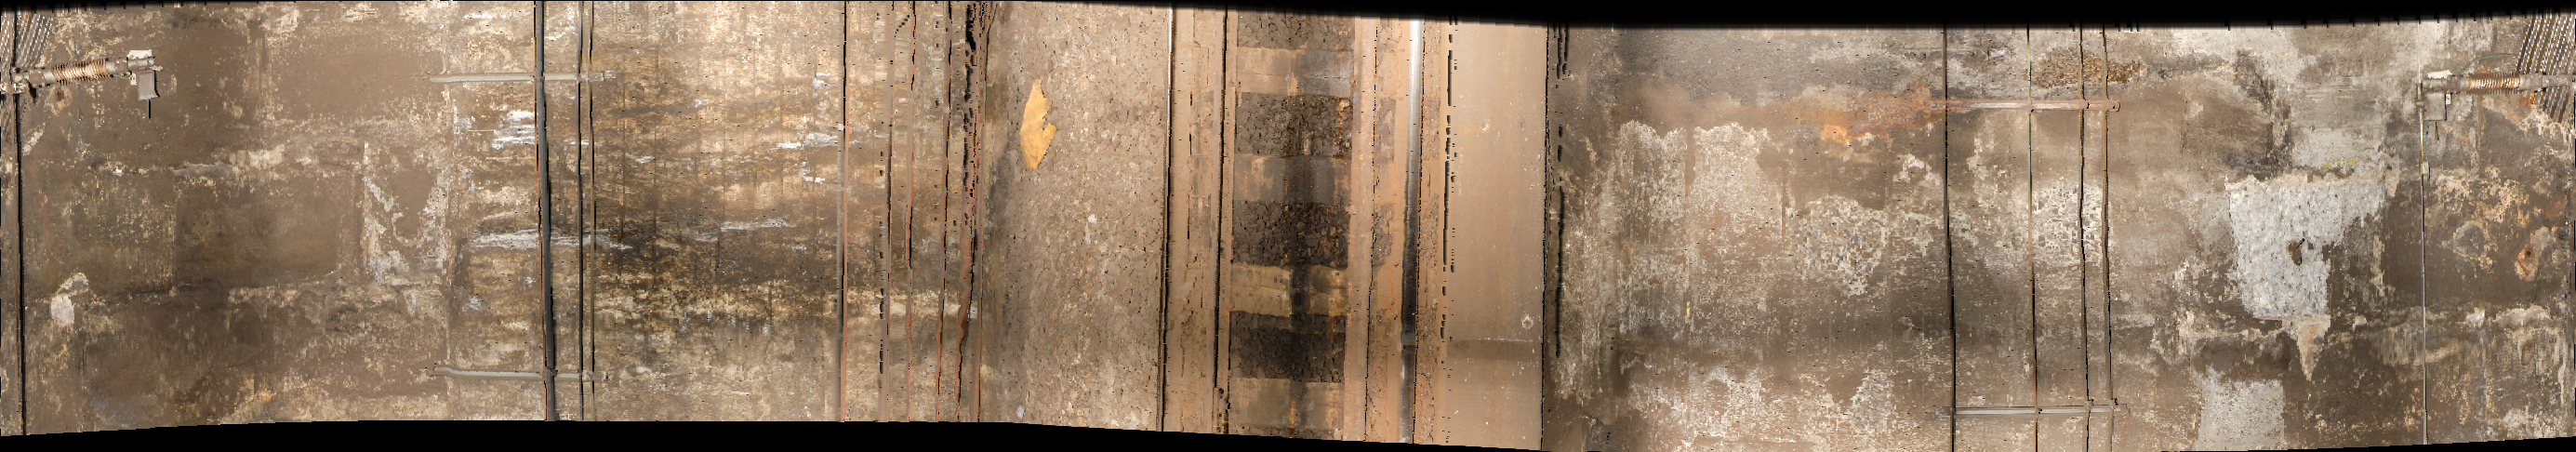pipes: (835, 2, 989, 452), (531, 2, 598, 449), (2073, 46, 2123, 452), (1932, 31, 1970, 452), (2410, 76, 2440, 452), (2022, 33, 2045, 452)
tracks: (1163, 5, 1451, 452)
